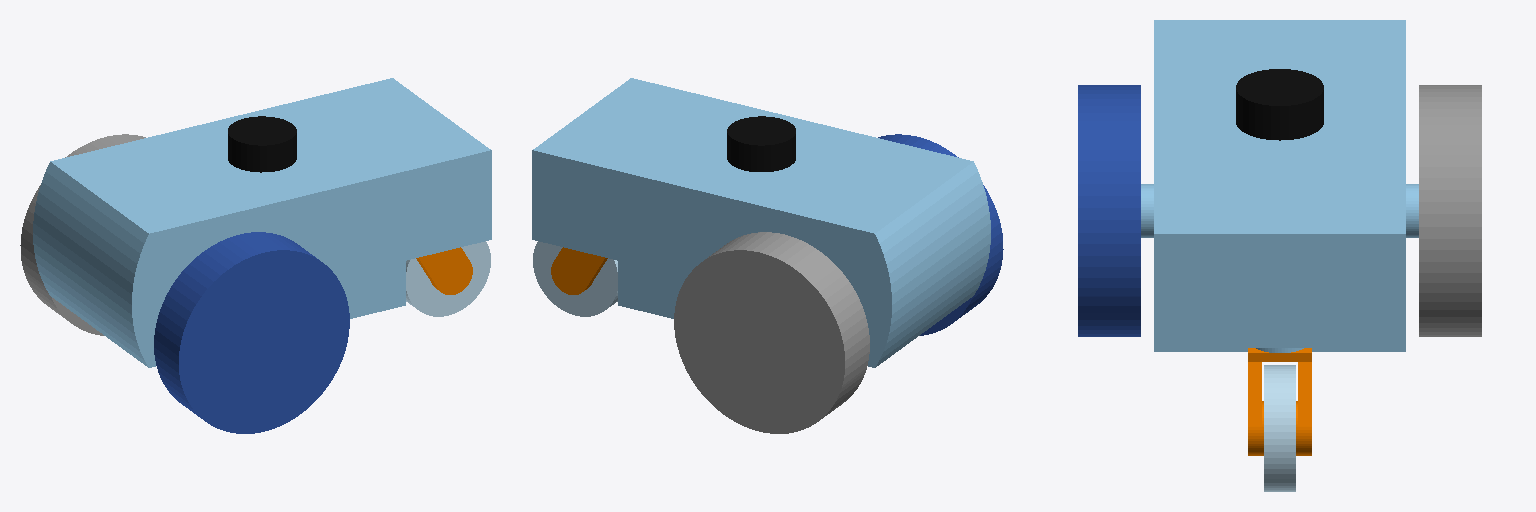
The robot description file, URDF, robot "swebot":
<?xml version="1.0"?>
<!--
  swebot (explore_bot package) - differential drive robot for Gazebo Sim (gz-sim) + ROS 2

  Frame convention (REP-103):  +x forward, +y left, +z up.
    base_link = on the floor, directly below the midpoint of the drive-wheel axle.
    Forward (+x) is the CASTER end of the robot.

  Same meshes as the CAD export (package://explore_bot/meshes/...), with these changes:
    1. base_link moved to the axle midpoint (required for correct odometry).
    2. Realistic masses/inertias (the CAD export had ~0.01 kg for the whole body).
    3. Simple primitive collision shapes instead of STL collisions.
    4. Joints renamed so the DiffDrive plugin config is readable.
    5. Added: lidar_link, imu_link, and the Gazebo plugins/sensors (bottom of file).
-->
<robot name="swebot">

  <!-- ================= BASE ================= -->
  <link name="base_link" />

  <!-- Body mesh frame is rotated +90 deg about z relative to base_link, and shifted
       so the wheel-axle midpoint lands exactly on base_link's origin. -->
  <joint name="base_to_body" type="fixed">
    <origin xyz="0.323981 0 0.146" rpy="0 0 1.5708" />
    <parent link="base_link" />
    <child link="body" />
  </joint>

  <link name="body">
    <inertial>
      <mass value="2.0" />
      <origin xyz="0 0.234 0" rpy="0 0 0" />
      <!-- solid box 0.22 x 0.42 x 0.15 m -->
      <inertia ixx="0.03315" ixy="0" ixz="0" iyy="0.011817" iyz="0" izz="0.037467" />
    </inertial>
    <visual>
      <origin xyz="0 0 0" rpy="0 0 0" />
      <geometry>
        <mesh filename="package://explore_bot/meshes/body.stl" scale="1 1 1" />
      </geometry>
      <material name="body_blue">
        <color rgba="0.615686 0.811765 0.929412 1" />
      </material>
    </visual>
    <collision>
      <origin xyz="0 0.234 0" rpy="0 0 0" />
      <geometry>
        <box size="0.22 0.42 0.15" />
      </geometry>
    </collision>
  </link>

  <!-- ================= DRIVE WHEELS =================
       Wheel: radius 0.10 m, width 0.05 m, axis = body x (= base_link y).
       Joint frame is at the wheel CENTER; visual offset undoes that so the
       original STL lands where it was in the CAD model.
       Wheel separation (center to center) = 0.27 m. -->
  <joint name="left_wheel_joint" type="continuous">
    <origin xyz="0.135 0.323981 -0.0460411" rpy="0 0 0" />
    <axis xyz="1 0 0" />
    <parent link="body" />
    <child link="left_wheel" />
  </joint>

  <link name="left_wheel">
    <inertial>
      <mass value="0.15" />
      <origin xyz="0 0 0" rpy="0 0 0" />
      <inertia ixx="7.5e-4" ixy="0" ixz="0" iyy="4.0625e-4" iyz="0" izz="4.0625e-4" />
    </inertial>
    <visual>
      <origin xyz="-0.135 -0.323981 0.0460411" rpy="0 0 0" />
      <geometry>
        <mesh filename="package://explore_bot/meshes/left_wheel.stl" scale="1 1 1" />
      </geometry>
      <material name="wheel_grey">
        <color rgba="0.647059 0.647059 0.647059 1" />
      </material>
    </visual>
    <collision>
      <origin xyz="0 0 0" rpy="0 1.5708 0" />
      <geometry>
        <cylinder radius="0.1" length="0.05" />
      </geometry>
    </collision>
  </link>

  <joint name="right_wheel_joint" type="continuous">
    <origin xyz="-0.135 0.323981 -0.0460411" rpy="0 0 0" />
    <axis xyz="1 0 0" />
    <parent link="body" />
    <child link="right_wheel" />
  </joint>

  <link name="right_wheel">
    <inertial>
      <mass value="0.15" />
      <origin xyz="0 0 0" rpy="0 0 0" />
      <inertia ixx="7.5e-4" ixy="0" ixz="0" iyy="4.0625e-4" iyz="0" izz="4.0625e-4" />
    </inertial>
    <visual>
      <origin xyz="0.135 -0.323981 0.0460411" rpy="0 0 0" />
      <geometry>
        <mesh filename="package://explore_bot/meshes/right_wheel.stl" scale="1 1 1" />
      </geometry>
      <material name="wheel_blue">
        <color rgba="0.231373 0.380392 0.705882 1" />
      </material>
    </visual>
    <collision>
      <origin xyz="0 0 0" rpy="0 1.5708 0" />
      <geometry>
        <cylinder radius="0.1" length="0.05" />
      </geometry>
    </collision>
  </link>

  <!-- ================= CASTER (swivel + wheel) ================= -->
  <joint name="caster_swivel_joint" type="continuous">
    <origin xyz="0 0.0557349 -0.0335411" rpy="0 0 0" />
    <axis xyz="0 0 1" />
    <parent link="body" />
    <child link="caster_body" />
  </joint>

  <link name="caster_body">
    <inertial>
      <mass value="0.05" />
      <origin xyz="0 -0.0141 -0.0421" rpy="0 0 0" />
      <inertia ixx="5.475e-5" ixy="0" ixz="0" iyy="3.98e-5" iyz="0" izz="3.58e-5" />
    </inertial>
    <visual>
      <origin xyz="0 -0.0557349 0.0335411" rpy="0 0 0" />
      <geometry>
        <mesh filename="package://explore_bot/meshes/caster_body.stl" scale="1 1 1" />
      </geometry>
      <material name="caster_orange">
        <color rgba="0.972549 0.529412 0.00392157 1" />
      </material>
    </visual>
    <!-- no collision: it never touches the ground -->
  </link>

  <joint name="caster_wheel_joint" type="continuous">
    <origin xyz="0 -0.0317543 -0.0625" rpy="0 0 0" />
    <axis xyz="1 0 0" />
    <parent link="caster_body" />
    <child link="caster_wheel" />
  </joint>

  <link name="caster_wheel">
    <inertial>
      <mass value="0.05" />
      <origin xyz="0 0 0" rpy="0 0 0" />
      <inertia ixx="6.25e-5" ixy="0" ixz="0" iyy="3.39e-5" iyz="0" izz="3.39e-5" />
    </inertial>
    <visual>
      <origin xyz="0 -0.0239806 0.0960411" rpy="0 0 0" />
      <geometry>
        <mesh filename="package://explore_bot/meshes/caster_wheel.stl" scale="1 1 1" />
      </geometry>
      <material name="caster_light">
        <color rgba="0.768627 0.886275 0.952941 1" />
      </material>
    </visual>
    <collision>
      <origin xyz="0 0 0" rpy="0 0 0" />
      <geometry>
        <sphere radius="0.05" />
      </geometry>
    </collision>
  </link>

  <!-- ================= SENSOR LINKS =================
       Lidar height: 0.23 m above the floor. This is ABOVE the body top (0.22 m) so the
       chassis never blocks the beams, and BELOW the shortest obstacles in the arena
       (0.25 m) so every obstacle is detected. Raising it above ~0.24 m would make
       the lidar miss the shortest cylinders/blocks/trapezoid. -->
  <joint name="lidar_joint" type="fixed">
    <origin xyz="0.09 0 0.23" rpy="0 0 0" />
    <parent link="base_link" />
    <child link="lidar_link" />
  </joint>

  <link name="lidar_link">
    <inertial>
      <mass value="0.1" />
      <origin xyz="0 0 0" rpy="0 0 0" />
      <inertia ixx="5.1e-5" ixy="0" ixz="0" iyy="5.1e-5" iyz="0" izz="6.1e-5" />
    </inertial>
    <visual>
      <origin xyz="0 0 0" rpy="0 0 0" />
      <geometry>
        <cylinder radius="0.035" length="0.04" />
      </geometry>
      <material name="lidar_dark">
        <color rgba="0.1 0.1 0.1 1" />
      </material>
    </visual>
  </link>

  <joint name="imu_joint" type="fixed">
    <origin xyz="0 0 0.15" rpy="0 0 0" />
    <parent link="base_link" />
    <child link="imu_link" />
  </joint>

  <link name="imu_link">
    <inertial>
      <mass value="0.01" />
      <origin xyz="0 0 0" rpy="0 0 0" />
      <inertia ixx="1e-6" ixy="0" ixz="0" iyy="1e-6" iyz="0" izz="1e-6" />
    </inertial>
  </link>

  <!-- ================= GAZEBO: friction ================= -->
  <gazebo reference="left_wheel">
    <mu1>1.0</mu1>
    <mu2>1.0</mu2>
  </gazebo>
  <gazebo reference="right_wheel">
    <mu1>1.0</mu1>
    <mu2>1.0</mu2>
  </gazebo>
  <!-- caster should slide freely, not drag -->
  <gazebo reference="caster_wheel">
    <mu1>0.01</mu1>
    <mu2>0.01</mu2>
  </gazebo>

  <!-- ================= GAZEBO: model plugins ================= -->
  <gazebo>
    <!-- Wheel odometry + cmd_vel. Publishes odom -> base_link on /tf and /odom. -->
    <plugin filename="gz-sim-diff-drive-system" name="gz::sim::systems::DiffDrive">
      <left_joint>left_wheel_joint</left_joint>
      <right_joint>right_wheel_joint</right_joint>
      <wheel_separation>0.27</wheel_separation>
      <wheel_radius>0.1</wheel_radius>
      <odom_publish_frequency>50</odom_publish_frequency>
      <topic>cmd_vel</topic>
      <odom_topic>odom</odom_topic>
      <tf_topic>tf</tf_topic>
      <frame_id>odom</frame_id>
      <child_frame_id>base_link</child_frame_id>
      <max_linear_velocity>1.0</max_linear_velocity>
      <min_linear_velocity>-1.0</min_linear_velocity>
      <max_angular_velocity>2.0</max_angular_velocity>
      <min_angular_velocity>-2.0</min_angular_velocity>
      <max_linear_acceleration>2.0</max_linear_acceleration>
      <min_linear_acceleration>-2.0</min_linear_acceleration>
      <max_angular_acceleration>4.0</max_angular_acceleration>
      <min_angular_acceleration>-4.0</min_angular_acceleration>
    </plugin>

    <!-- Wheel/caster joint angles, so robot_state_publisher can move the wheels in TF/RViz.
         Needs /joint_states added to the ros_gz_bridge list in launch.py. -->
    <plugin filename="gz-sim-joint-state-publisher-system"
            name="gz::sim::systems::JointStatePublisher">
      <topic>joint_states</topic>
    </plugin>
  </gazebo>

  <!-- ================= GAZEBO: lidar ================= -->
  <gazebo reference="lidar_link">
    <sensor name="lidar" type="gpu_lidar">
      <always_on>true</always_on>
      <visualize>false</visualize>
      <update_rate>10</update_rate>
      <topic>scan</topic>
      <gz_frame_id>lidar_link</gz_frame_id>
      <lidar>
        <scan>
          <horizontal>
            <samples>360</samples>
            <resolution>1</resolution>
            <min_angle>-3.14159</min_angle>
            <max_angle>3.14159</max_angle>
          </horizontal>
        </scan>
        <range>
          <min>0.12</min>
          <max>10.0</max>
          <resolution>0.01</resolution>
        </range>
        <noise>
          <type>gaussian</type>
          <mean>0.0</mean>
          <stddev>0.01</stddev>
        </noise>
      </lidar>
    </sensor>
  </gazebo>

  <!-- ================= GAZEBO: IMU ================= -->
  <gazebo reference="imu_link">
    <sensor name="imu" type="imu">
      <always_on>true</always_on>
      <update_rate>100</update_rate>
      <topic>imu</topic>
      <gz_frame_id>imu_link</gz_frame_id>
      <imu>
        <angular_velocity>
          <x><noise type="gaussian"><mean>0.0</mean><stddev>0.0002</stddev></noise></x>
          <y><noise type="gaussian"><mean>0.0</mean><stddev>0.0002</stddev></noise></y>
          <z><noise type="gaussian"><mean>0.0</mean><stddev>0.0002</stddev></noise></z>
        </angular_velocity>
        <linear_acceleration>
          <x><noise type="gaussian"><mean>0.0</mean><stddev>0.017</stddev></noise></x>
          <y><noise type="gaussian"><mean>0.0</mean><stddev>0.017</stddev></noise></y>
          <z><noise type="gaussian"><mean>0.0</mean><stddev>0.017</stddev></noise></z>
        </linear_acceleration>
      </imu>
    </sensor>
  </gazebo>

</robot>

--- Render facts (derived) ---
The picture shows the robot from 3 angles, left to right: view 1: azimuth 30°, elevation 25°; view 2: azimuth 150°, elevation 25°; view 3: azimuth 270°, elevation 25°; orthographic projection.
Model swebot with 8 links and 7 joints (4 continuous, 3 fixed), rooted at base_link, posed all joints at 0.
Visible links, largest first — view 1: body, right_wheel, lidar_link, caster_wheel, left_wheel, caster_body; view 2: body, left_wheel, lidar_link, caster_wheel, right_wheel, caster_body; view 3: body, left_wheel, right_wheel, lidar_link, caster_wheel, caster_body.
Link boxes in pixels (x1=…): body: x1=33, y1=78, x2=491, y2=367; right_wheel: x1=154, y1=232, x2=349, y2=433; lidar_link: x1=228, y1=116, x2=296, y2=172; caster_wheel: x1=406, y1=241, x2=490, y2=316; left_wheel: x1=20, y1=134, x2=145, y2=335; caster_body: x1=416, y1=247, x2=472, y2=294; body: x1=532, y1=78, x2=990, y2=367; left_wheel: x1=674, y1=232, x2=869, y2=433; lidar_link: x1=727, y1=116, x2=795, y2=171; caster_wheel: x1=533, y1=241, x2=617, y2=316; right_wheel: x1=878, y1=134, x2=1003, y2=335; caster_body: x1=551, y1=247, x2=607, y2=294; body: x1=1141, y1=20, x2=1418, y2=352; left_wheel: x1=1419, y1=85, x2=1481, y2=336; right_wheel: x1=1078, y1=85, x2=1140, y2=336; lidar_link: x1=1236, y1=69, x2=1323, y2=140; caster_wheel: x1=1264, y1=365, x2=1295, y2=491; caster_body: x1=1248, y1=348, x2=1311, y2=455.
Bounding box of the posed robot: 0.47 × 0.32 × 0.25 m (x, y, z).
5 mesh visuals loaded from 5 distinct referenced files (5 binary STL).
